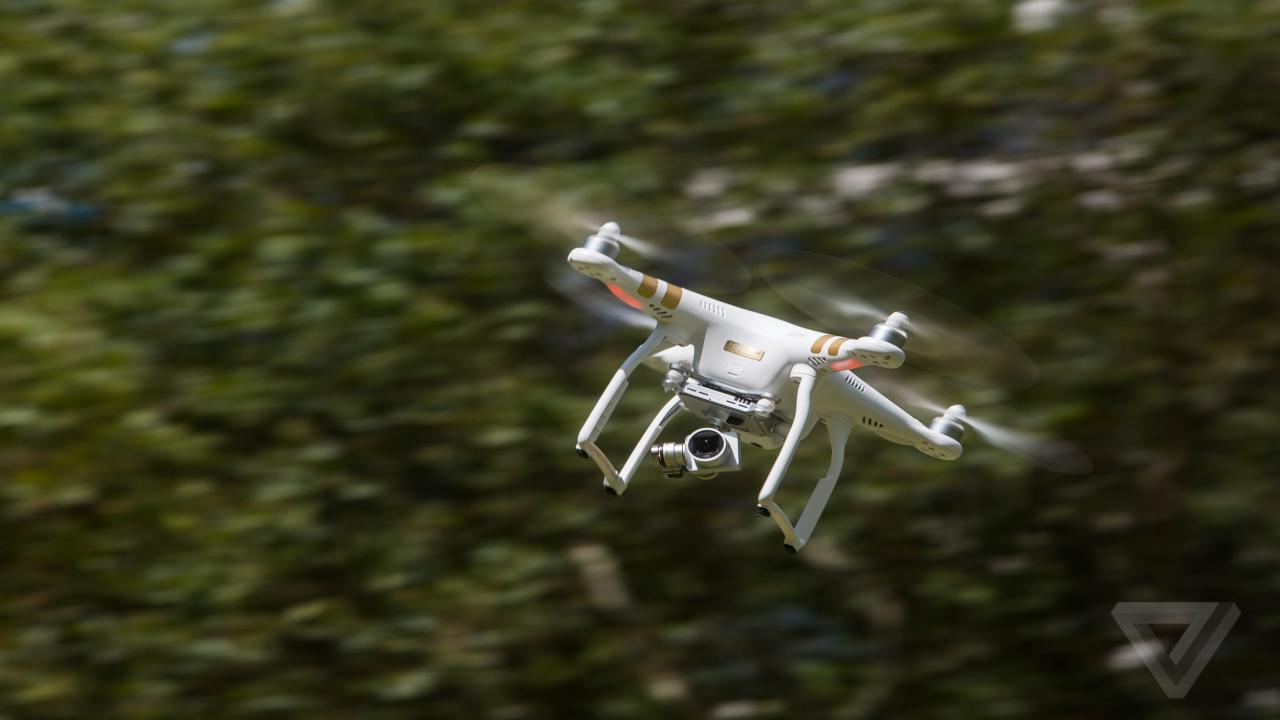Drone: (458, 154, 1105, 561)
